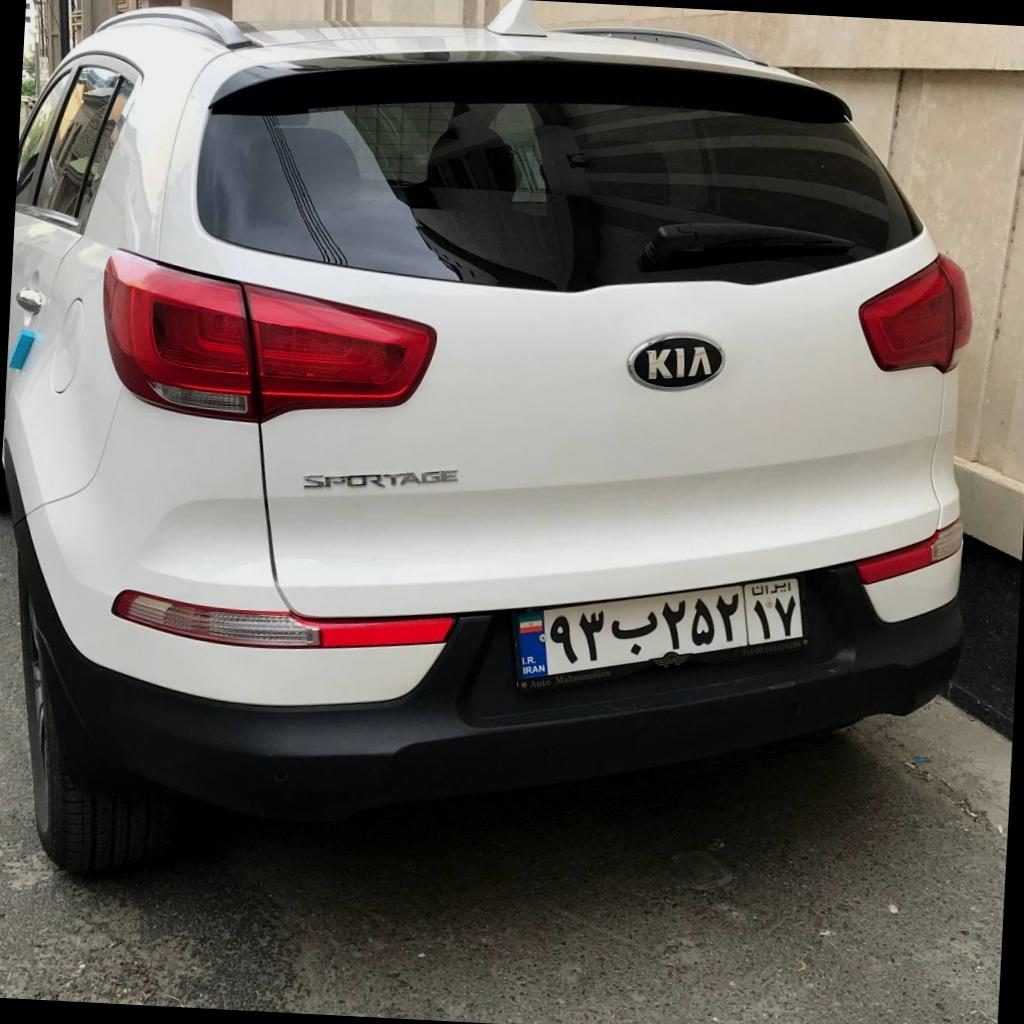Plates: (516, 578, 803, 680)
